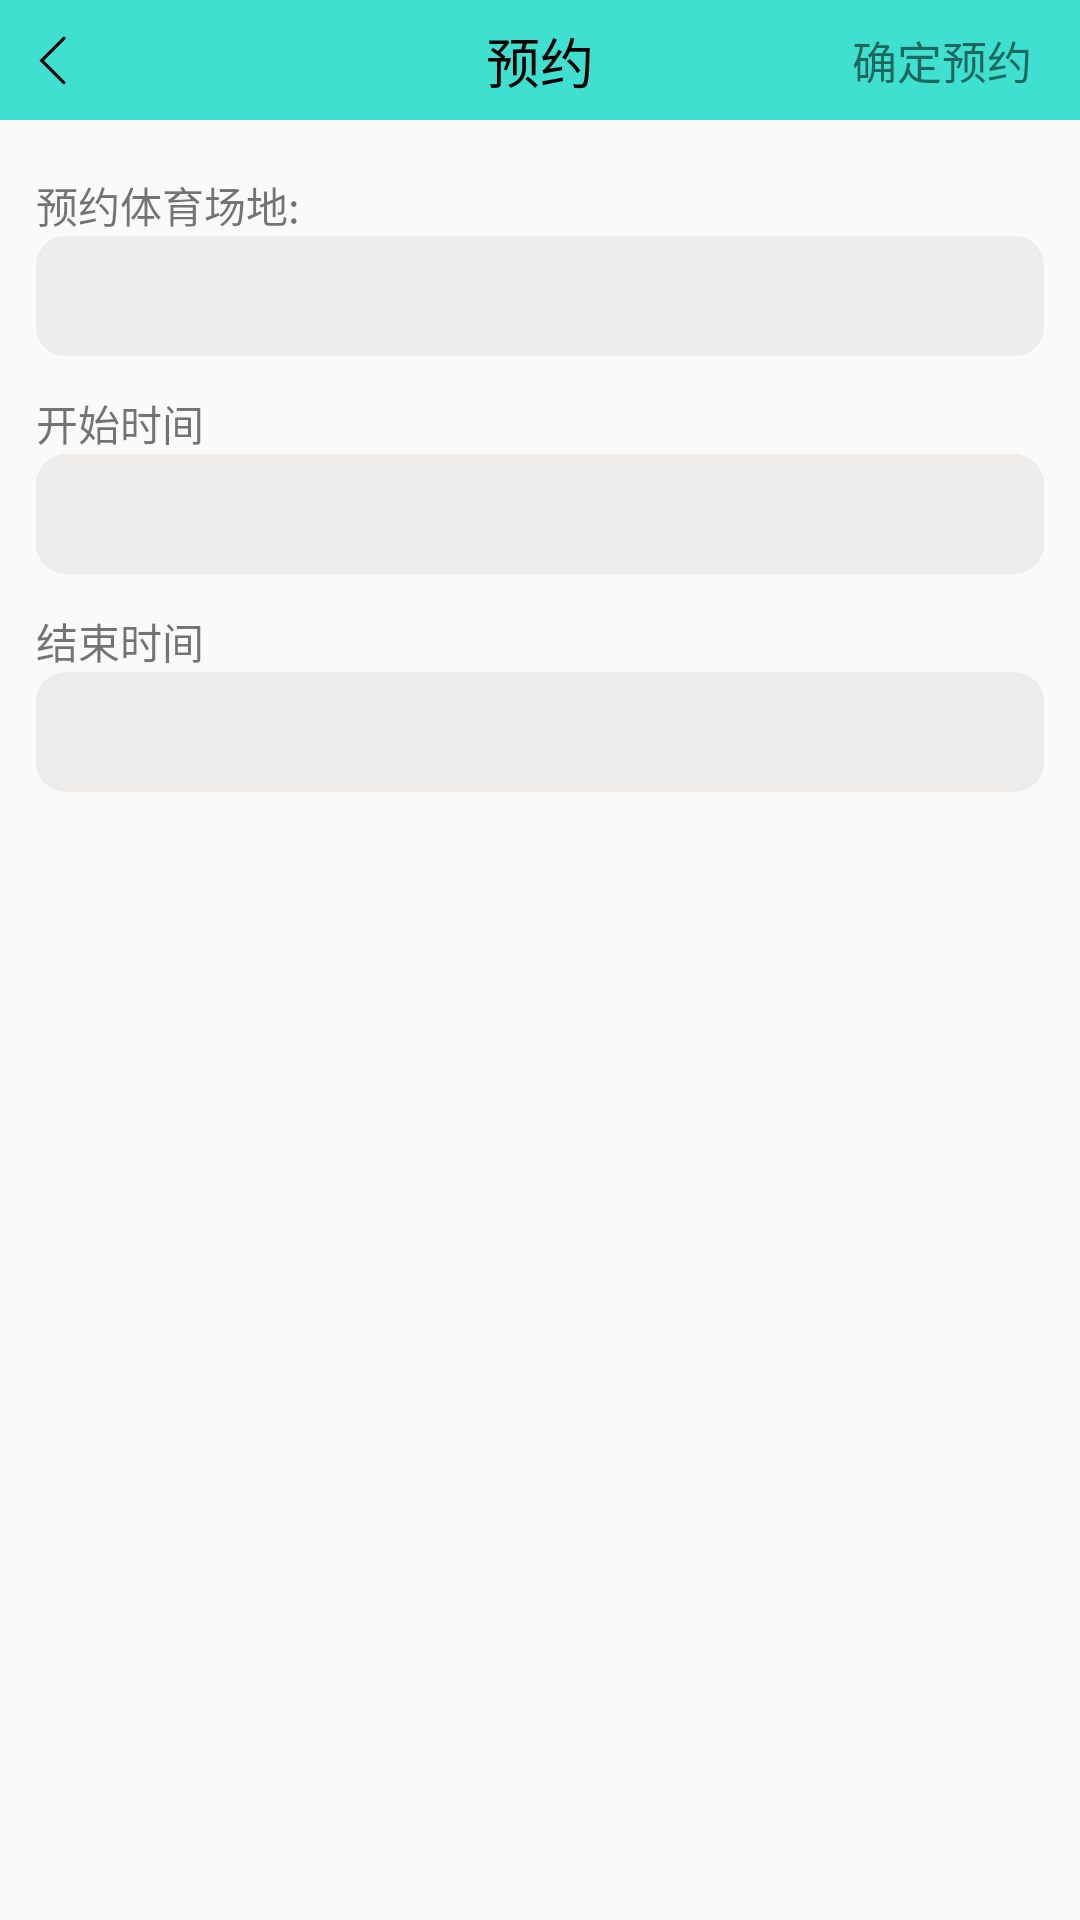

Named icons in this screenshot (1080×1920) and their bounding boxes, (x1, y1, x2, y2):
return: (39, 36, 66, 85)
